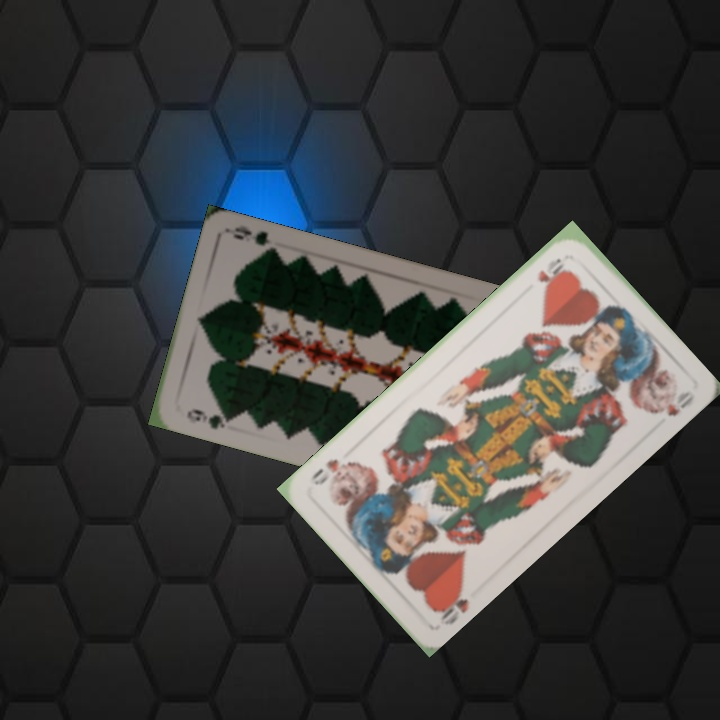G9: (182, 404, 237, 432)
HO: (429, 580, 472, 628), (533, 254, 569, 286)
